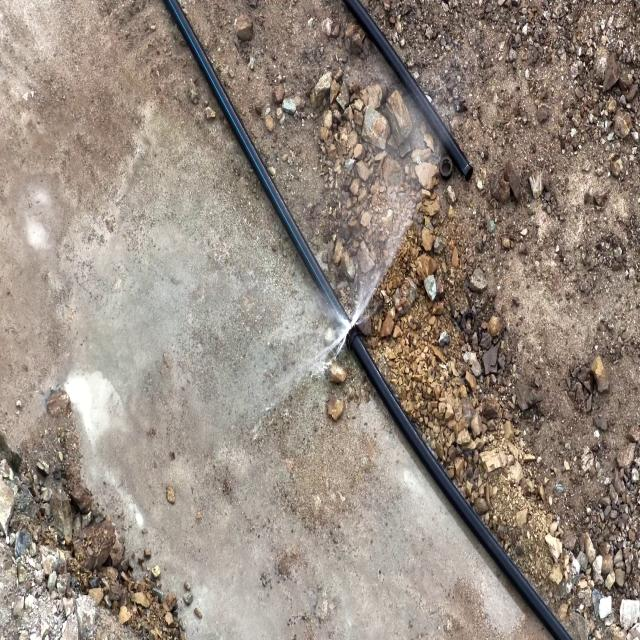leak: (283, 215, 412, 383)
